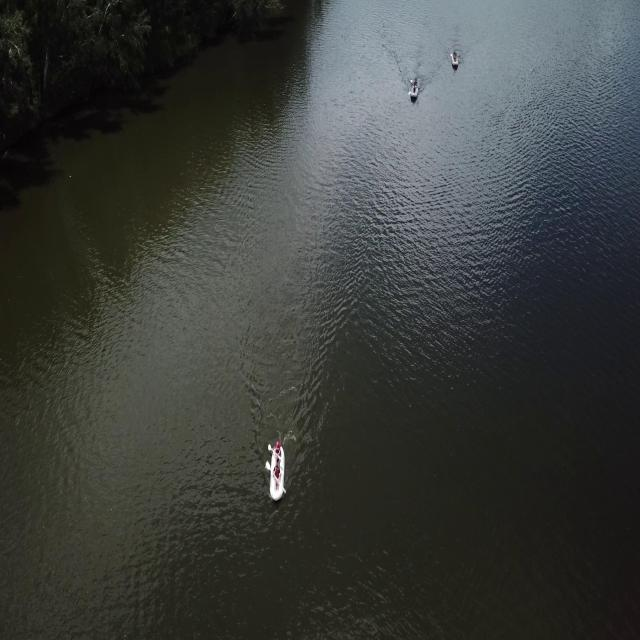kayak: (264, 437, 290, 506), (409, 80, 421, 106), (450, 49, 461, 72)
